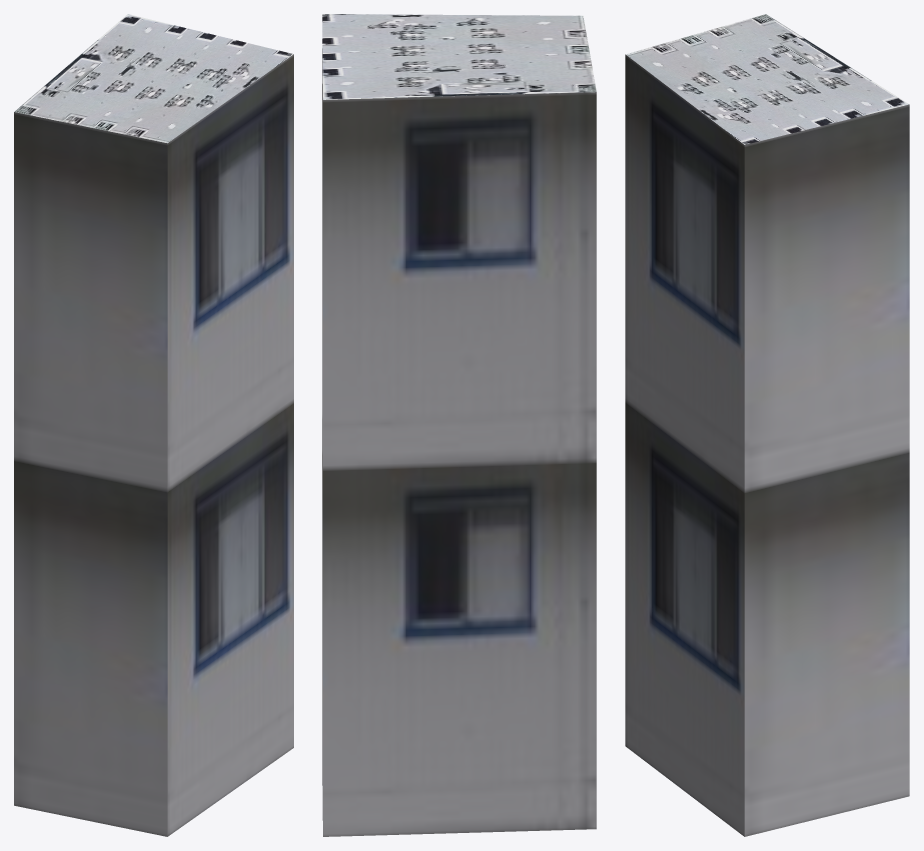
Rendered from ResTex__1540.fbx.
The picture shows the model from 3 angles, left to right: view 1: azimuth 30°, elevation 25°; view 2: azimuth 150°, elevation 25°; view 3: azimuth 270°, elevation 25°; orthographic projection. The views are drawn at different scales.
Parts seen in each view (by area): view 1: CityEngineMaterial_9_m, CityEngineMaterial_m; view 2: CityEngineMaterial_9_m, CityEngineMaterial_m; view 3: CityEngineMaterial_9_m, CityEngineMaterial_m.
Boxes of the visible parts, bbox=[...] form: CityEngineMaterial_9_m: bbox=[14, 54, 293, 836]; CityEngineMaterial_m: bbox=[14, 14, 293, 143]; CityEngineMaterial_9_m: bbox=[322, 48, 596, 836]; CityEngineMaterial_m: bbox=[322, 14, 596, 99]; CityEngineMaterial_9_m: bbox=[625, 54, 909, 836]; CityEngineMaterial_m: bbox=[626, 14, 908, 144].
Size of the model in its own units: 2.44 by 6 by 2.23.
Materials: 2 (2 with a texture image).
